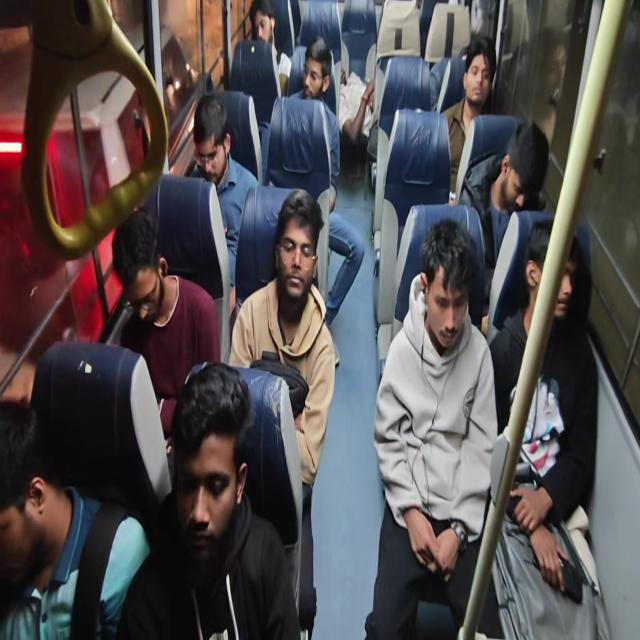person: (168, 378, 263, 558), (1, 399, 61, 586), (416, 224, 481, 364), (102, 207, 178, 321), (274, 186, 324, 316), (529, 224, 579, 313), (503, 124, 548, 210), (195, 92, 235, 186), (462, 32, 498, 122), (246, 0, 285, 54), (301, 38, 329, 98), (460, 42, 474, 63)
